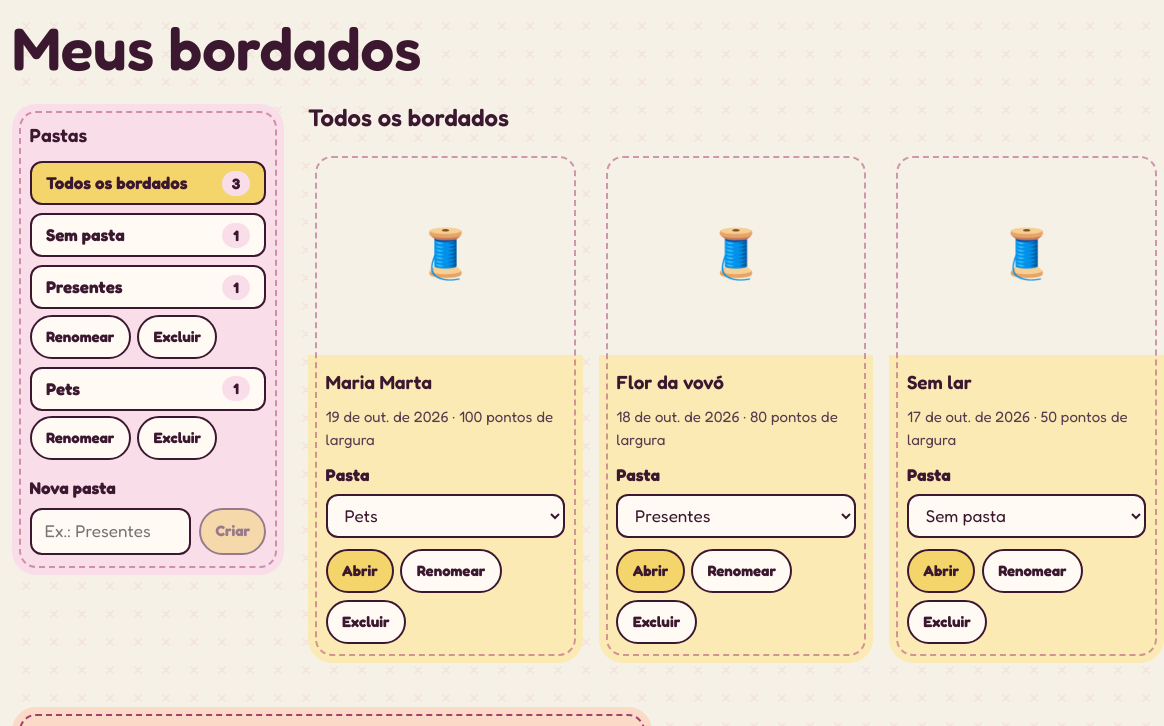
Test: LibraryPage › filters by folder and by "without folder"
Expected: the heading "Maria Marta" is shown, left=326, top=370, right=432, bottom=393
Click the button "Pets 1" at (148, 389), box left=30, top=367, right=266, bottom=411
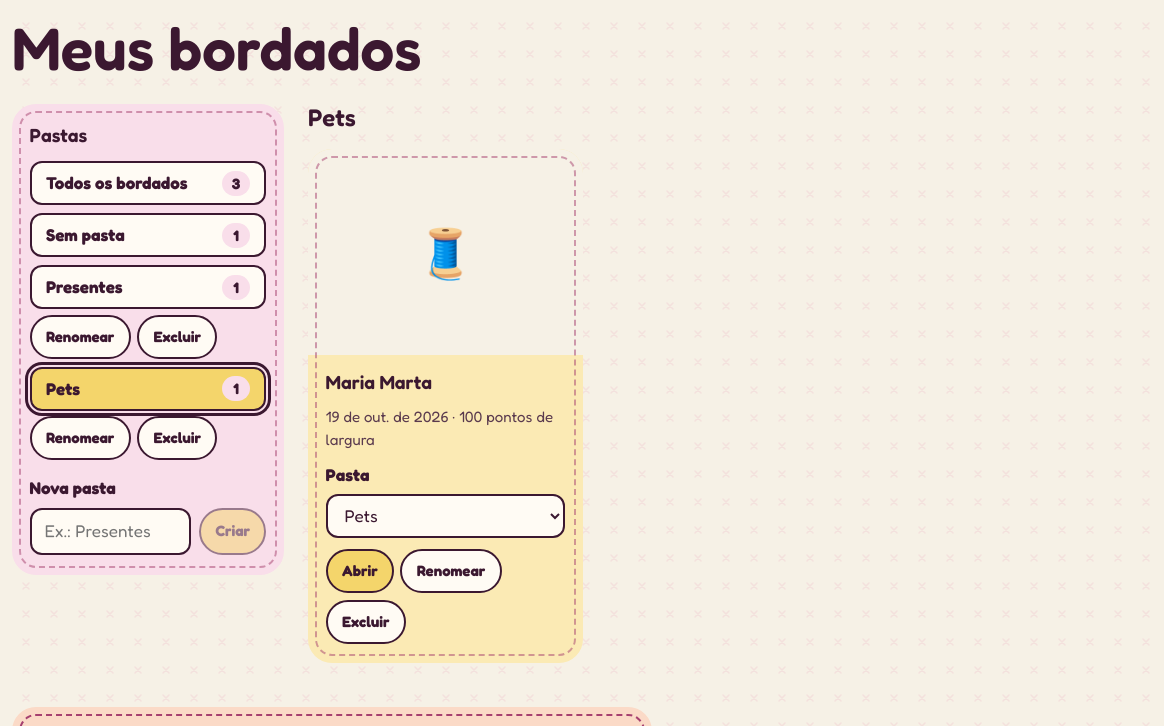
Expected: the heading "Maria Marta" is shown, left=326, top=370, right=432, bottom=393
Expected: the heading "Flor da vovó" is gone
Click the button "Sem pasta 1" at (148, 235), box left=30, top=213, right=266, bottom=257
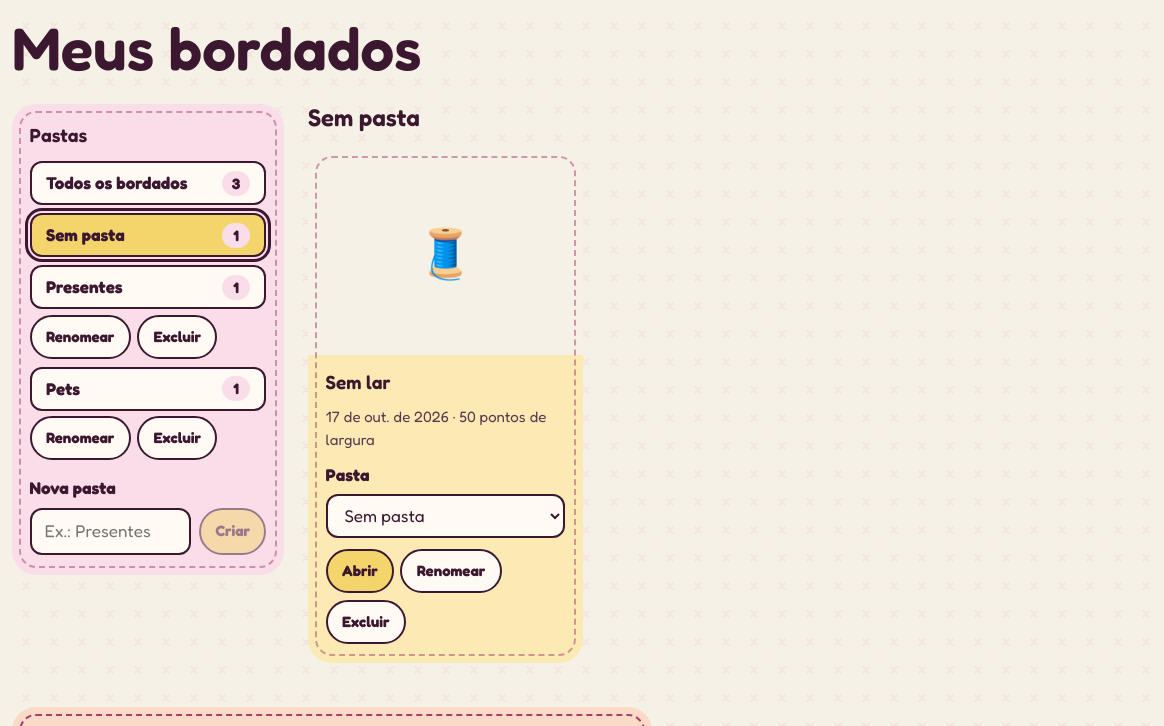
Expected: the heading "Sem lar" is shown, left=326, top=370, right=390, bottom=393
Expected: the heading "Maria Marta" is gone
